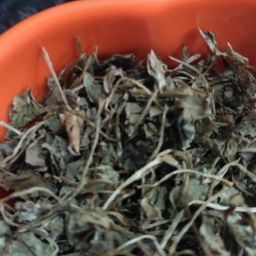Fenugeek (dried): (102, 37, 206, 254), (177, 18, 256, 250), (47, 51, 120, 256), (7, 79, 65, 256)
